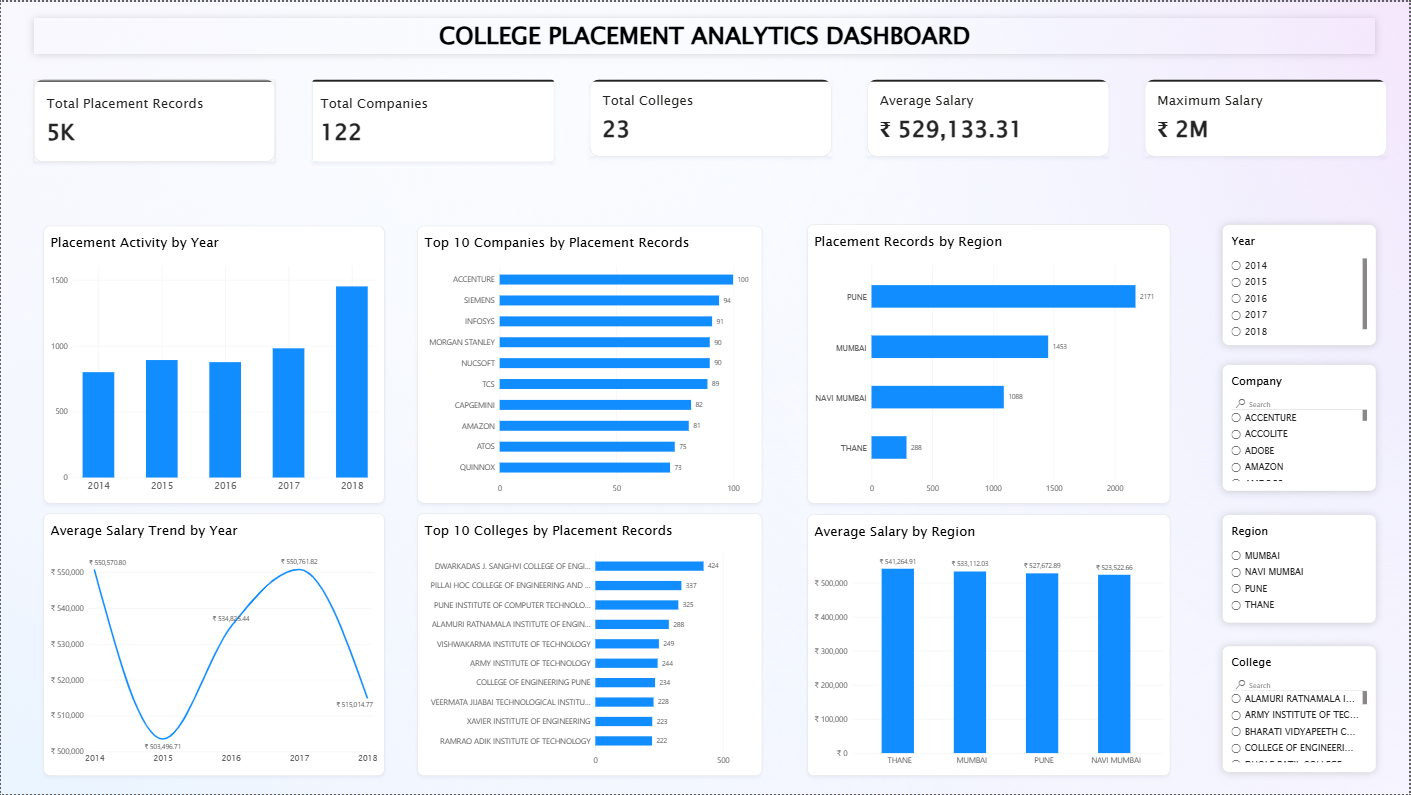

Layout of this report page (visuals, bound fields, positions):
{"tool":"powerbi","page":{"name":"Page 1","canvas":[2560,1440],"ordinal":0},"visuals":[{"type":"cardVisual","fields":{"Data":["detailed_data.Total Placement Records"]},"box":[60,140,440,150],"z":0},{"type":"cardVisual","fields":{"Data":["detailed_data.Total Companies"]},"box":[565,140,440,150],"z":1000},{"type":"cardVisual","fields":{"Data":["detailed_data.Total Colleges"]},"box":[1070,140,440,140],"z":2000},{"type":"cardVisual","fields":{"Data":["detailed_data.Average Salary"]},"box":[1575,140,440,140],"z":3000},{"type":"cardVisual","fields":{"Data":["detailed_data.Maximum Salary"]},"box":[2080,140,440,140],"z":4000},{"type":"clusteredColumnChart","title":"Placement Activity by Year","fields":{"Category":["detailed_data.Year"],"Y":["detailed_data.Total Placement Records"]},"box":[77.5,407.5,620,505],"z":5000},{"type":"clusteredBarChart","title":"Placement Records by Region","fields":{"Category":["detailed_data.Region"],"Y":["detailed_data.Total Placement Records"]},"box":[1465,405,660,507.5],"z":6000},{"type":"barChart","title":"Top 10 Companies by Placement Records","fields":{"Category":["detailed_data.Company"],"Y":["detailed_data.Total Placement Records"]},"box":[757.5,407.5,627.5,505],"z":7000},{"type":"lineChart","title":"Average Salary Trend by Year","fields":{"Category":["detailed_data.Year"],"Y":["detailed_data.Average Salary"]},"box":[77.5,930,620,477.5],"z":8000},{"type":"barChart","title":"Top 10 Colleges by Placement Records","fields":{"Category":["detailed_data.College"],"Y":["detailed_data.Total Placement Records"]},"box":[757.5,930,627.5,477.5],"z":9000},{"type":"clusteredColumnChart","title":"Average Salary by Region","fields":{"Category":["detailed_data.Region"],"Y":["detailed_data.Average Salary"]},"box":[1465,932.5,660,475],"z":10000},{"type":"listSlicer","fields":{"Values":["detailed_data.Year"]},"box":[2220,405,280,220],"z":11000},{"type":"listSlicer","fields":{"Values":["detailed_data.Region"]},"box":[2220,932.5,280,197.5],"z":12000},{"type":"listSlicer","fields":{"Values":["detailed_data.Company"]},"box":[2220,660,280,230],"z":13000},{"type":"listSlicer","fields":{"Values":["detailed_data.College"]},"box":[2220,1170,280,230],"z":14000},{"type":"textbox","box":[60,30,2440,65],"z":15000}]}

Visuals, with their boxes in screenshot pixels (x1, y1, x2, y2), scaled from the page's 2560x1440 canvas onto the 1411x795 screenshot:
cardVisual - detailed_data.Total Placement Records: bbox=(33, 77, 276, 160)
cardVisual - detailed_data.Total Companies: bbox=(311, 77, 554, 160)
cardVisual - detailed_data.Total Colleges: bbox=(590, 77, 832, 155)
cardVisual - detailed_data.Average Salary: bbox=(868, 77, 1111, 155)
cardVisual - detailed_data.Maximum Salary: bbox=(1146, 77, 1389, 155)
"Placement Activity by Year" clusteredColumnChart: bbox=(43, 225, 384, 504)
"Placement Records by Region" clusteredBarChart: bbox=(807, 224, 1171, 504)
"Top 10 Companies by Placement Records" barChart: bbox=(418, 225, 763, 504)
"Average Salary Trend by Year" lineChart: bbox=(43, 513, 384, 777)
"Top 10 Colleges by Placement Records" barChart: bbox=(418, 513, 763, 777)
"Average Salary by Region" clusteredColumnChart: bbox=(807, 515, 1171, 777)
listSlicer - detailed_data.Year: bbox=(1224, 224, 1378, 345)
listSlicer - detailed_data.Region: bbox=(1224, 515, 1378, 624)
listSlicer - detailed_data.Company: bbox=(1224, 364, 1378, 491)
listSlicer - detailed_data.College: bbox=(1224, 646, 1378, 773)
textbox: bbox=(33, 17, 1378, 52)
